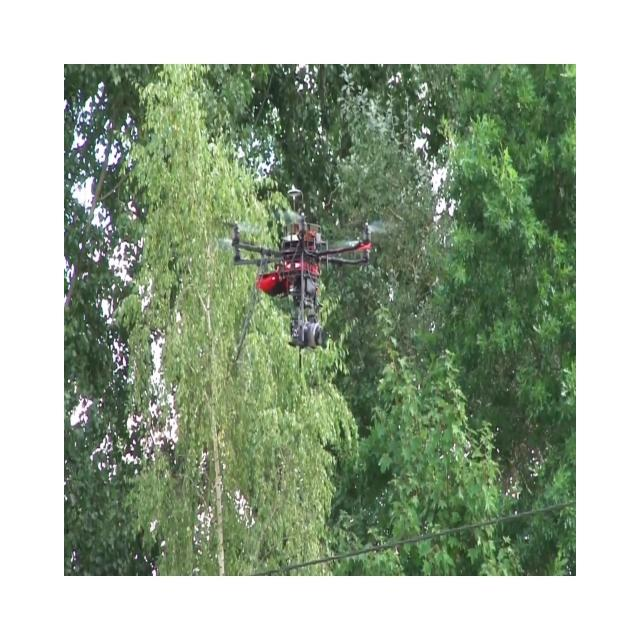drone: (213, 183, 380, 369)
